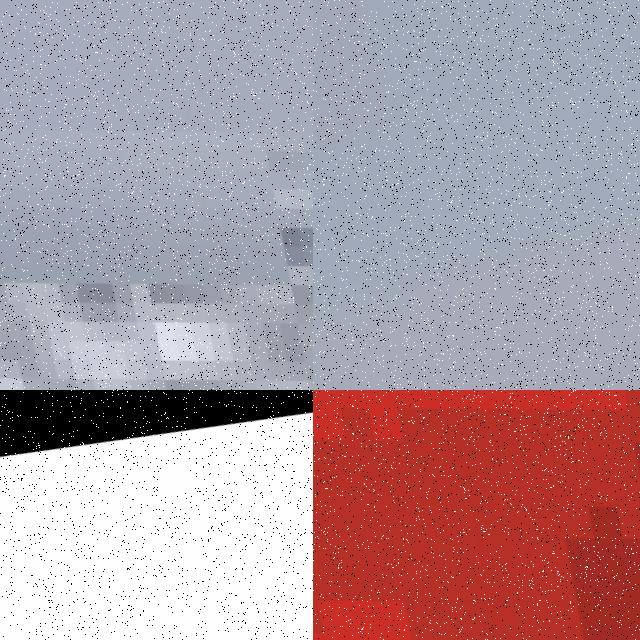drone: (0, 0, 313, 390), (313, 390, 640, 640), (0, 390, 313, 640)
